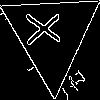X: (26, 10, 69, 46)
